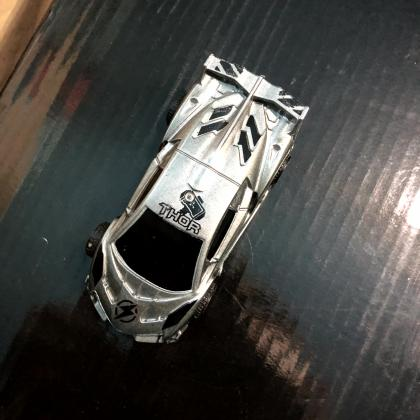Car: (85, 56, 307, 347)
